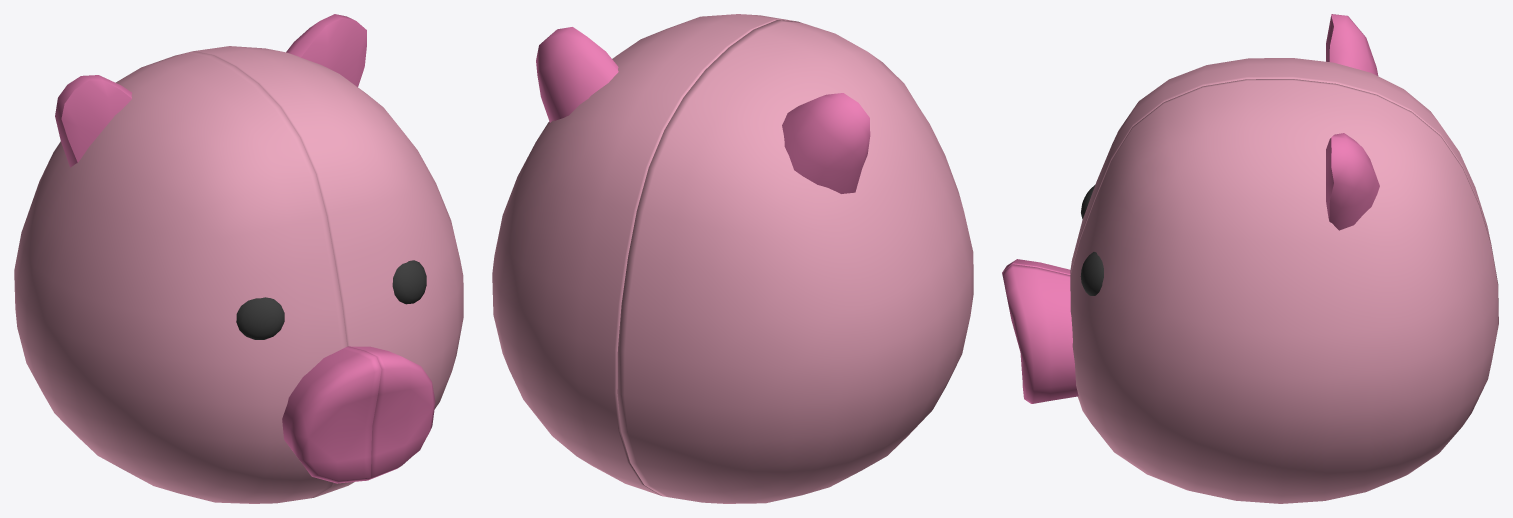
File: SM_Pig_01a.fbx
3 views of the same model, side by side, from view 1: azimuth 30°, elevation 25°; view 2: azimuth 150°, elevation 25°; view 3: azimuth 270°, elevation 25° (orthographic). The views are drawn at different scales.
Visible parts, largest first — view 1: Pig_02, Pig_01; view 2: Pig_02, Pig_01; view 3: Pig_01, Pig_02.
Boxes of the visible parts, x1=… form: Pig_02: x1=14, y1=51, x2=381, y2=503; Pig_01: x1=193, y1=14, x2=463, y2=497; Pig_02: x1=617, y1=20, x2=973, y2=503; Pig_01: x1=492, y1=14, x2=797, y2=495; Pig_01: x1=1002, y1=79, x2=1498, y2=503; Pig_02: x1=1002, y1=14, x2=1490, y2=274.
Size of the model in its own units: 28.36 by 28.53 by 31.97.
